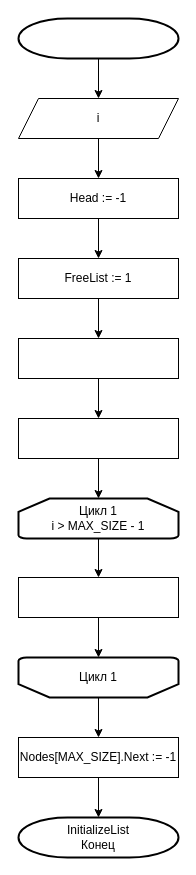
The diagram is 196 pixels wide and 875 high, and some of its shapes have lost their labels. Here are the shapes that lost their labels. From the top down, the box of each, then its label:
(17, 17, 179, 59): InitializeList Начало
(18, 338, 178, 378): Count := 0
(18, 418, 178, 458): i := 1
(18, 576, 178, 618): Nodes[i].Next := i + 1
